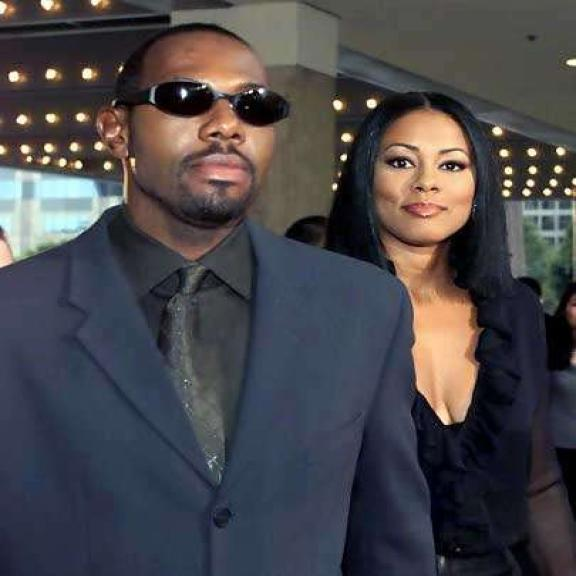face: (99, 42, 282, 228), (369, 104, 488, 252)
